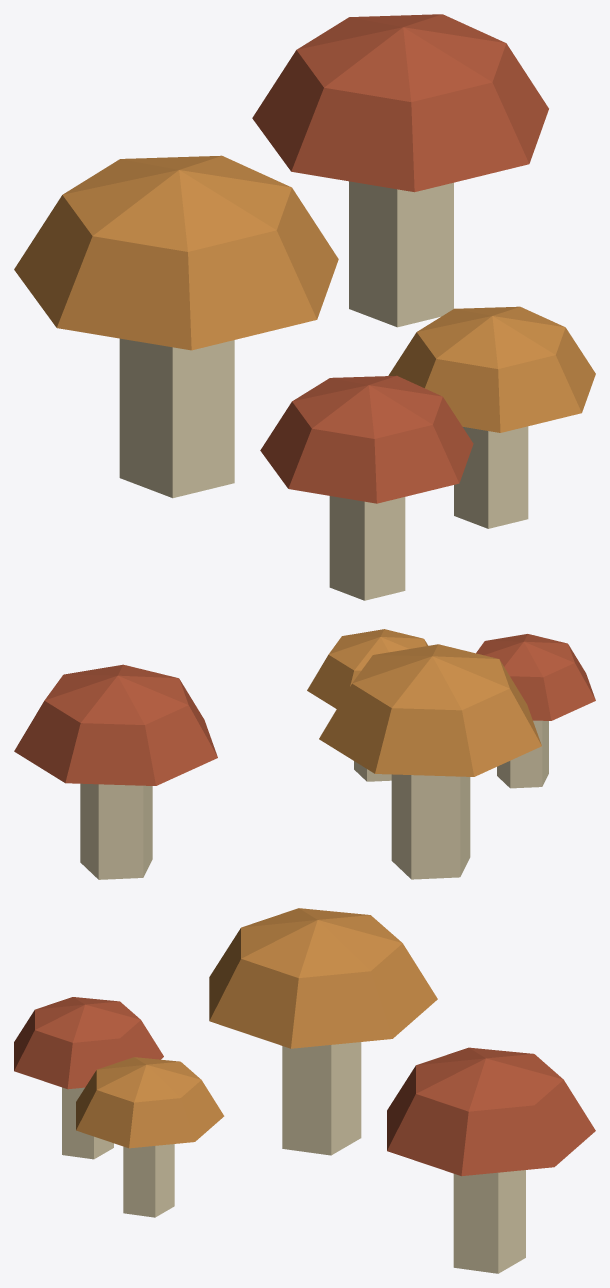
File: food_mushrooms.glb
The picture shows the model from 3 angles, top to bottom: view 1: azimuth 30°, elevation 25°; view 2: azimuth 150°, elevation 25°; view 3: azimuth 270°, elevation 25°; orthographic projection. The views are drawn at different scales.
Parts seen in each view (by area): view 1: food_mushrooms; view 2: food_mushrooms; view 3: food_mushrooms.
Part boxes in pixels (x1,y1,x2,y2): food_mushrooms: (14,14,595,600); food_mushrooms: (14,629,595,879); food_mushrooms: (14,908,595,1273).
Size of the model in its own units: 0.2641 by 0.1251 by 0.3026.
